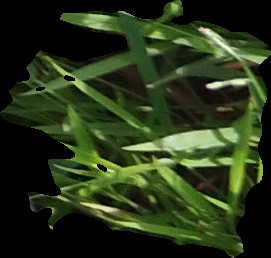grass: (1, 1, 269, 257)
